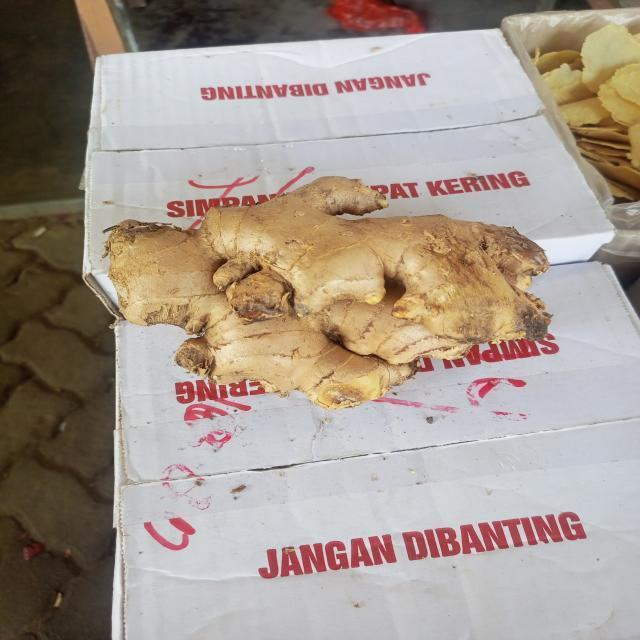ginger: (105, 192, 562, 390)
